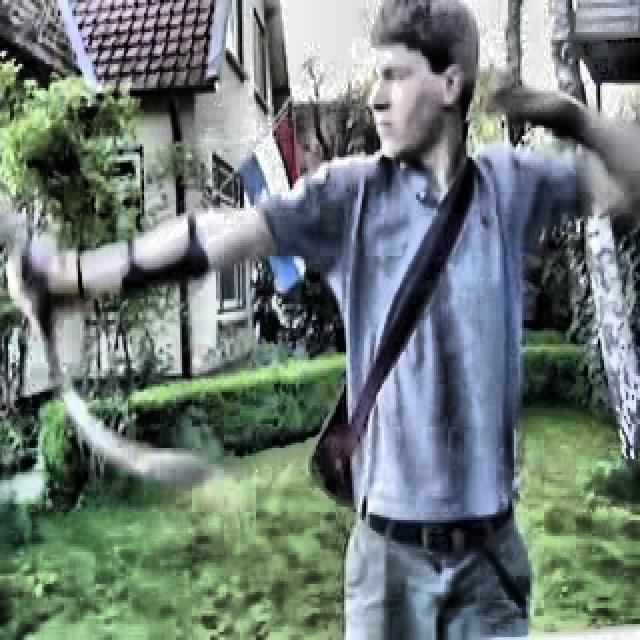P: (0, 7, 537, 638)
